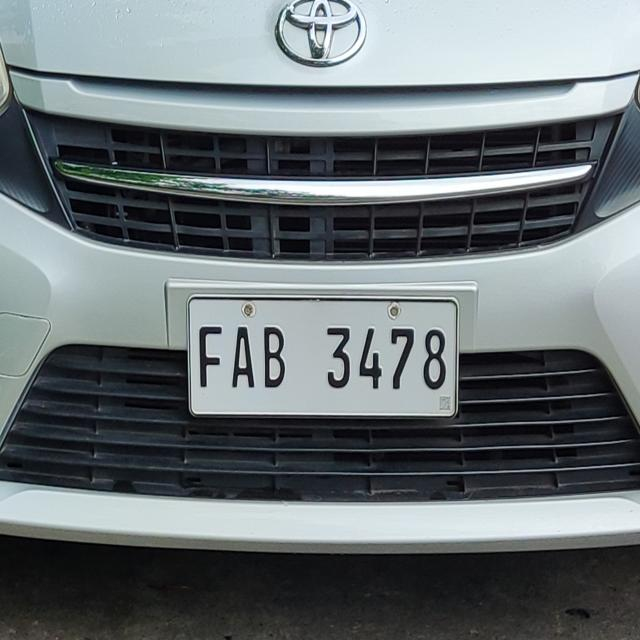plate: (184, 291, 462, 421)
